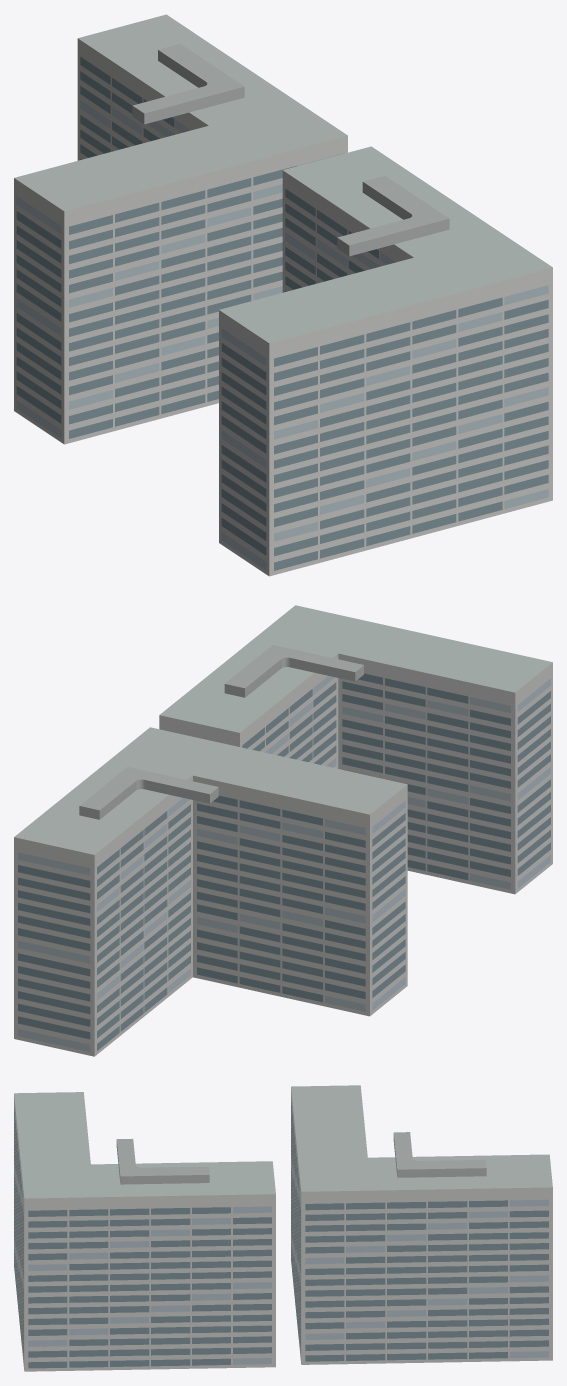
Rendered from apt-a10022649.glb.
3 views of the same model, one above another, from view 1: azimuth 30°, elevation 25°; view 2: azimuth 150°, elevation 25°; view 3: azimuth 270°, elevation 25° (orthographic). The views are drawn at different scales.
Visible parts, largest first — view 1: apt-a10022649; view 2: apt-a10022649; view 3: apt-a10022649.
Part boxes in pixels (left/top/right/bottom): apt-a10022649: left=14, top=14, right=552, bottom=576; apt-a10022649: left=14, top=605, right=552, bottom=1056; apt-a10022649: left=14, top=1085, right=552, bottom=1371.
Size of the model in its own units: 56.3 by 42 by 113.
